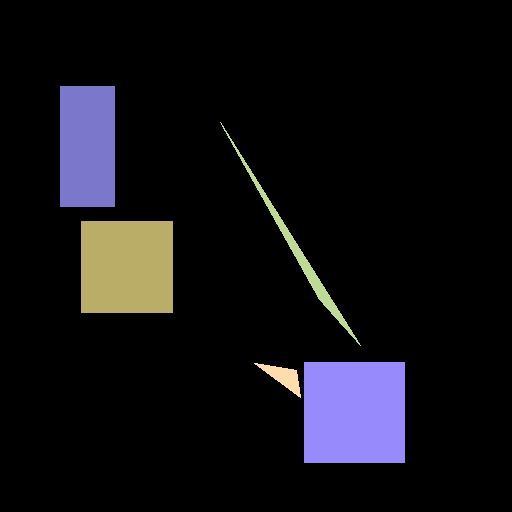rectangle: (60, 86, 114, 206)
square: (304, 362, 404, 462), (81, 221, 172, 312)
triangle: (254, 363, 300, 397)
